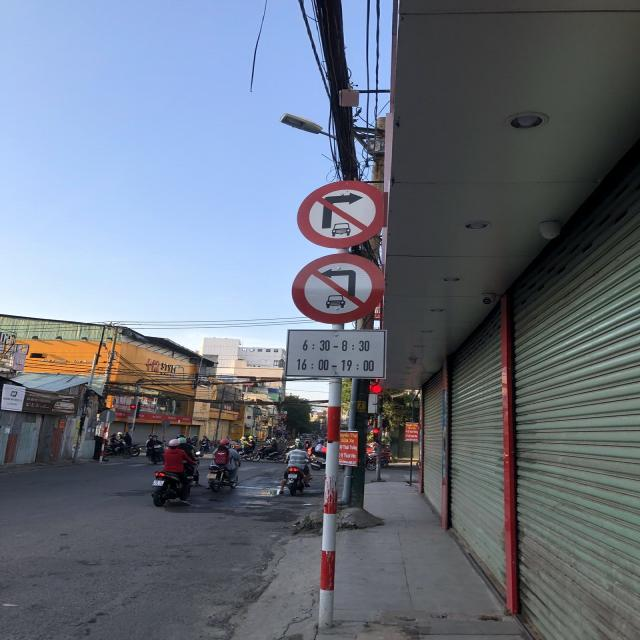Bien bao cam xe o to re phai: (290, 174, 390, 248)
Bien bao cam xe o to re trai: (290, 250, 389, 328)
